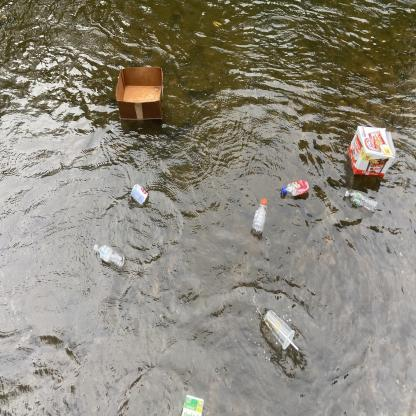trash: (112, 60, 170, 126), (347, 121, 404, 187), (258, 306, 304, 362), (340, 186, 385, 218), (246, 191, 275, 240), (90, 239, 126, 273), (276, 172, 314, 204), (126, 181, 152, 212), (178, 392, 209, 416)
